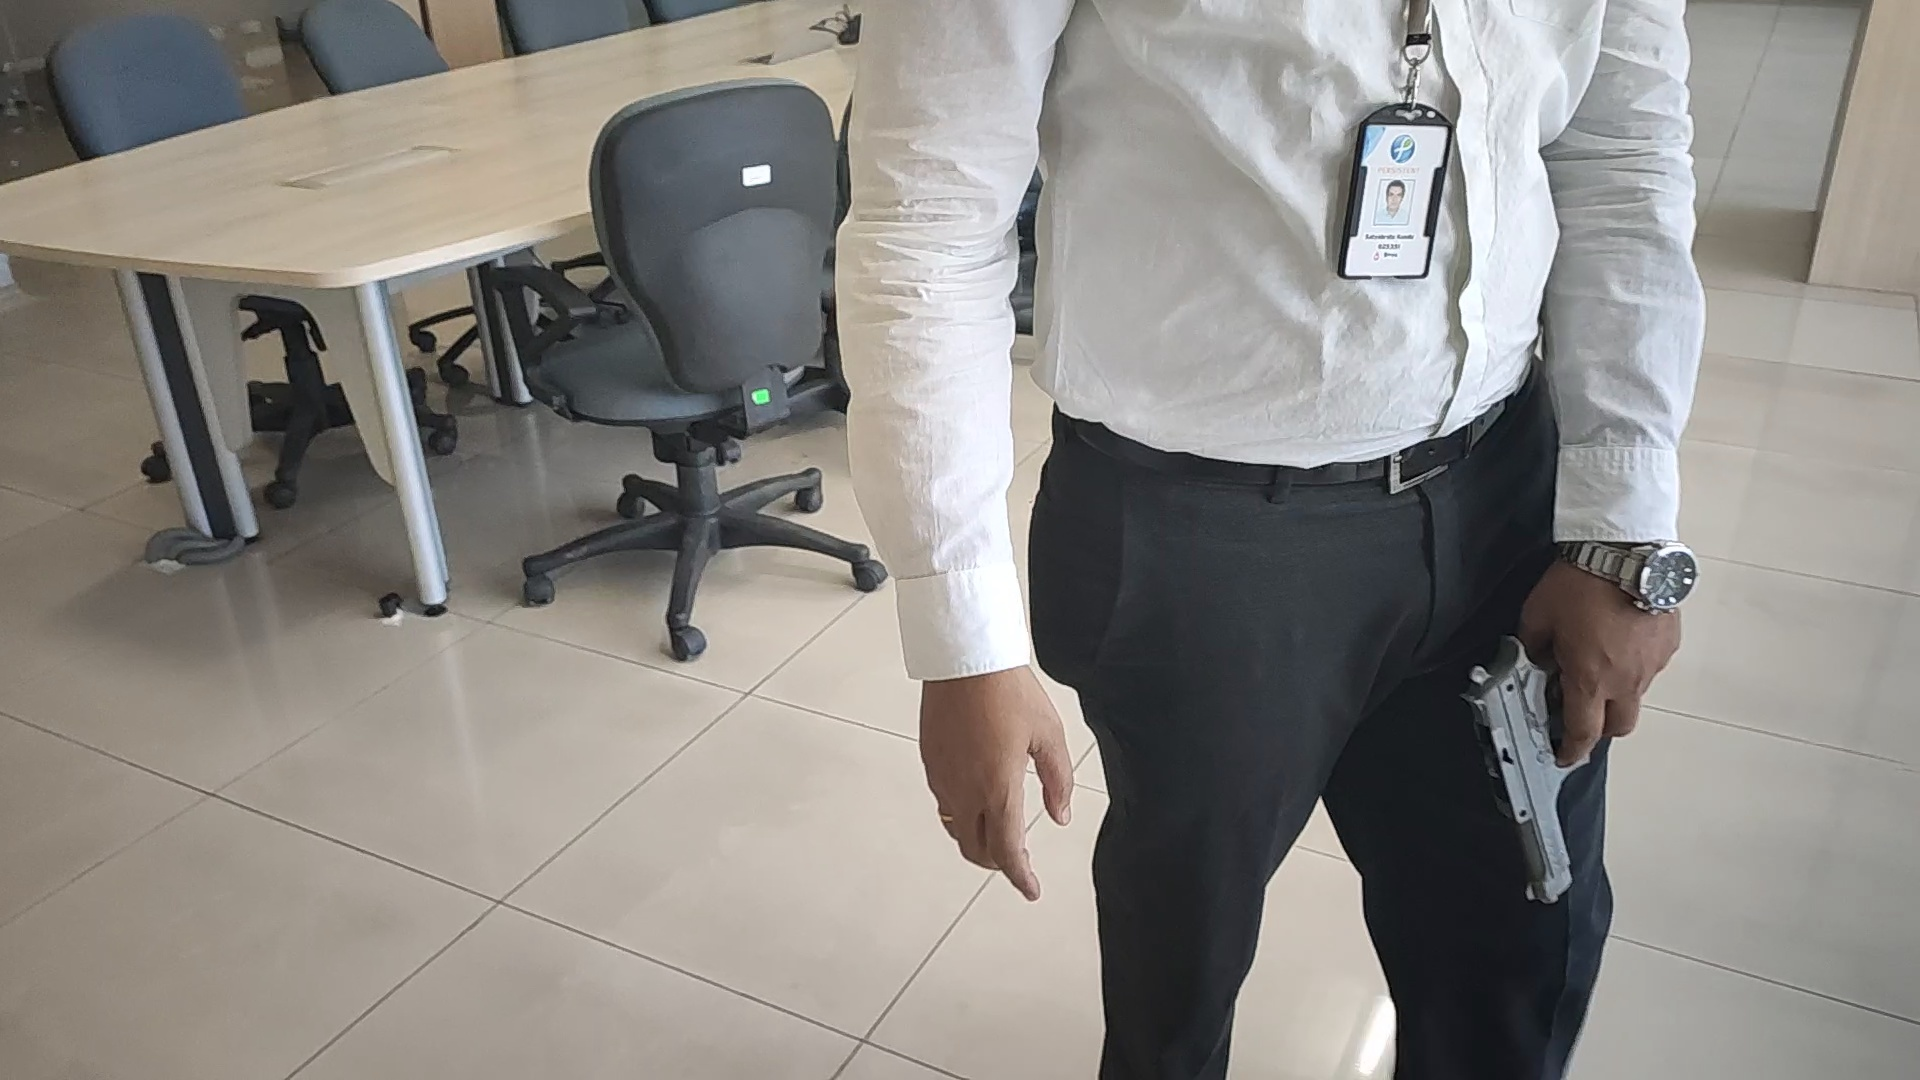gun: (1462, 640, 1596, 907)
